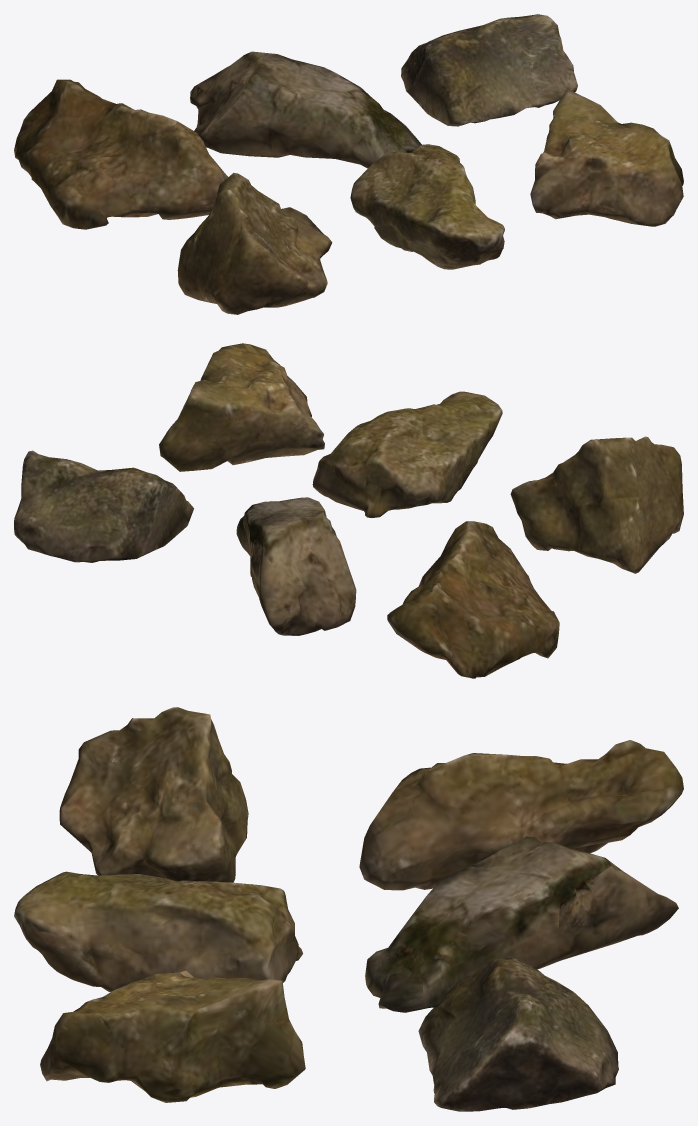
File: rock_moss_set_01.glb
The picture shows the model from 3 angles, top to bottom: view 1: azimuth 30°, elevation 25°; view 2: azimuth 150°, elevation 25°; view 3: azimuth 270°, elevation 25°; orthographic projection. The views are drawn at different scales.
Parts seen in each view (by area): view 1: rock_moss_set_01_rock01, rock_moss_set_01_rock02, rock_moss_set_01_rock06, rock_moss_set_01_rock04, rock_moss_set_01_rock03, rock_moss_set_01_rock05; view 2: rock_moss_set_01_rock04, rock_moss_set_01_rock01, rock_moss_set_01_rock05, rock_moss_set_01_rock03, rock_moss_set_01_rock06, rock_moss_set_01_rock02; view 3: rock_moss_set_01_rock01, rock_moss_set_01_rock02, rock_moss_set_01_rock05, rock_moss_set_01_rock04, rock_moss_set_01_rock06, rock_moss_set_01_rock03.
Part boxes in pixels (x1=…): rock_moss_set_01_rock01: x1=14, y1=79, x2=227, y2=229; rock_moss_set_01_rock02: x1=190, y1=51, x2=421, y2=168; rock_moss_set_01_rock06: x1=530, y1=89, x2=683, y2=226; rock_moss_set_01_rock04: x1=177, y1=172, x2=332, y2=314; rock_moss_set_01_rock03: x1=401, y1=14, x2=577, y2=126; rock_moss_set_01_rock05: x1=350, y1=144, x2=504, y2=269; rock_moss_set_01_rock04: x1=510, y1=436, x2=683, y2=573; rock_moss_set_01_rock01: x1=387, y1=521, x2=559, y2=678; rock_moss_set_01_rock05: x1=312, y1=391, x2=502, y2=517; rock_moss_set_01_rock03: x1=14, y1=450, x2=193, y2=562; rock_moss_set_01_rock06: x1=159, y1=343, x2=324, y2=471; rock_moss_set_01_rock02: x1=236, y1=497, x2=356, y2=635; rock_moss_set_01_rock01: x1=359, y1=740, x2=683, y2=890; rock_moss_set_01_rock02: x1=365, y1=836, x2=678, y2=1012; rock_moss_set_01_rock05: x1=14, y1=871, x2=302, y2=991; rock_moss_set_01_rock04: x1=59, y1=707, x2=248, y2=882; rock_moss_set_01_rock06: x1=40, y1=970, x2=305, y2=1102; rock_moss_set_01_rock03: x1=418, y1=956, x2=618, y2=1111.
Size of the model in its own units: 8 by 1.76 by 6.94.
1 material, 1 textured.
